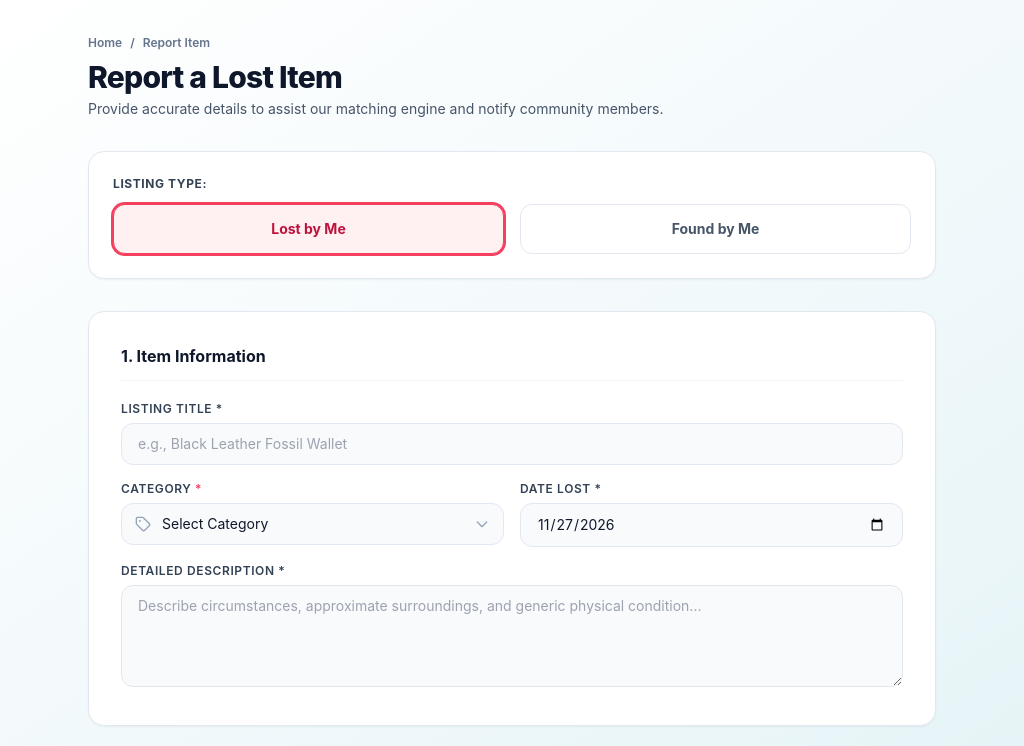
Test: Category System & CategorySelect Component › Form Validation in ReportItemPage › blocks report submission and displays validation error when no category is chosen
Type "Lost iPhone 14 Pro Max" into the field with placeholder "e.g., Black Leather Fossil Wallet".
click(512, 444); type("Lost iPhone 14 Pro Max")  # box left=121, top=423, right=903, bottom=465
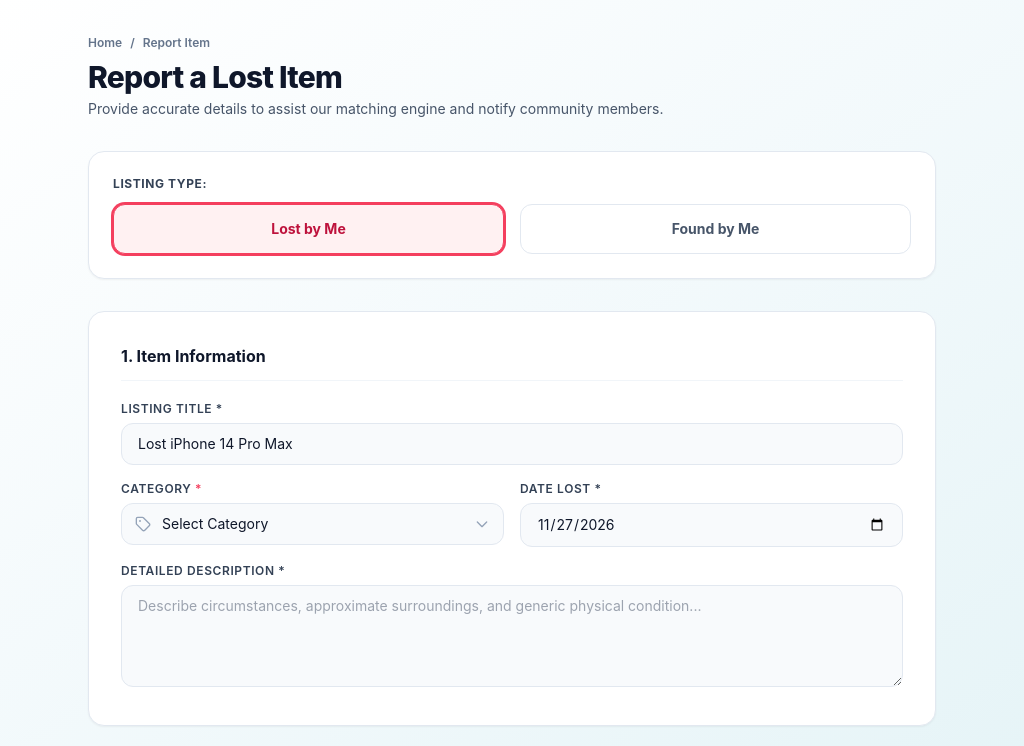
Replace the text in the text box with placeholder "Describe circumstances" with "Left on the library table near desk 4" at [512, 636], box left=121, top=585, right=903, bottom=687
(page scrolled)
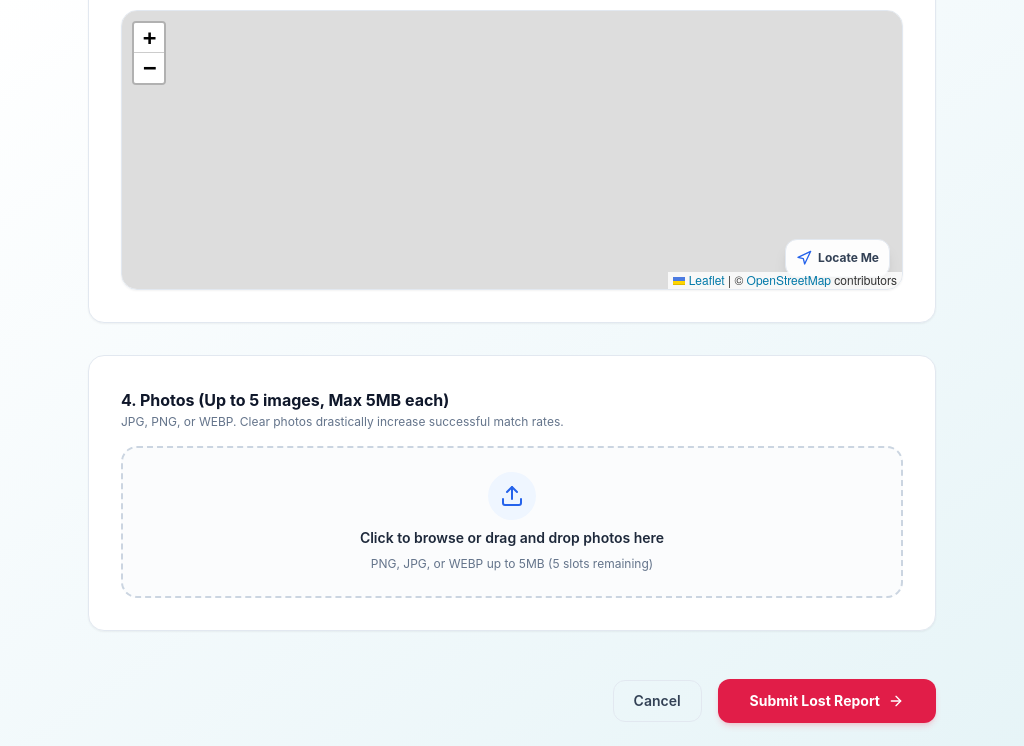
Click the button "Submit Lost Report".
click(827, 701)  # box left=718, top=679, right=936, bottom=723
(page scrolled)
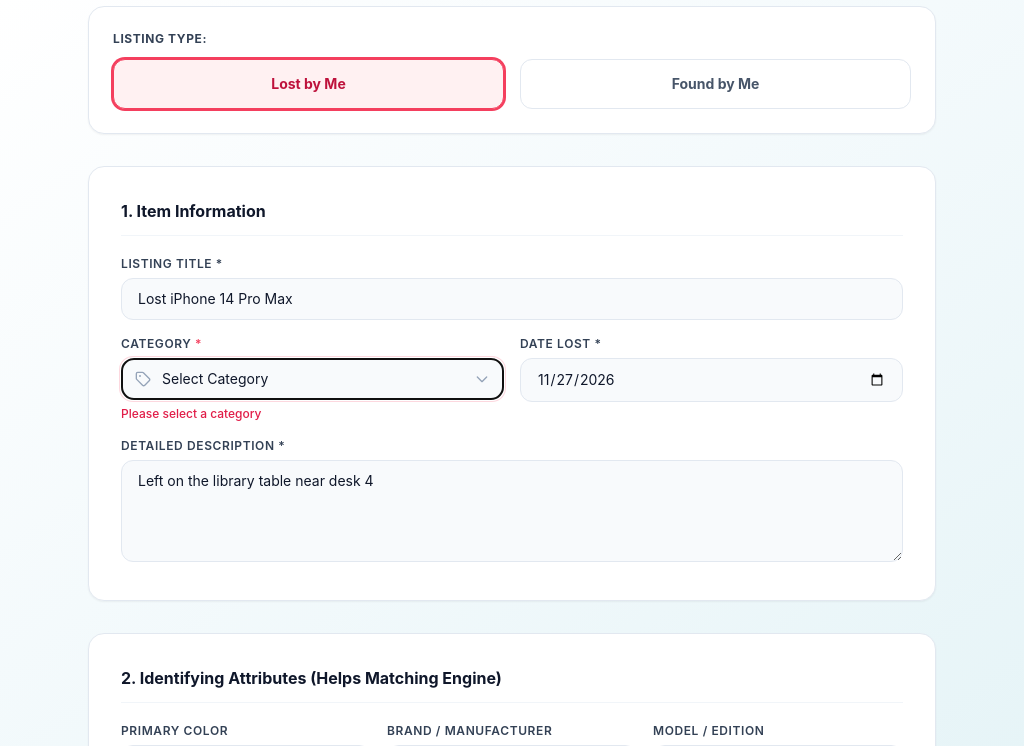
Now the text "Please select a category" is shown, box left=121, top=406, right=262, bottom=421
